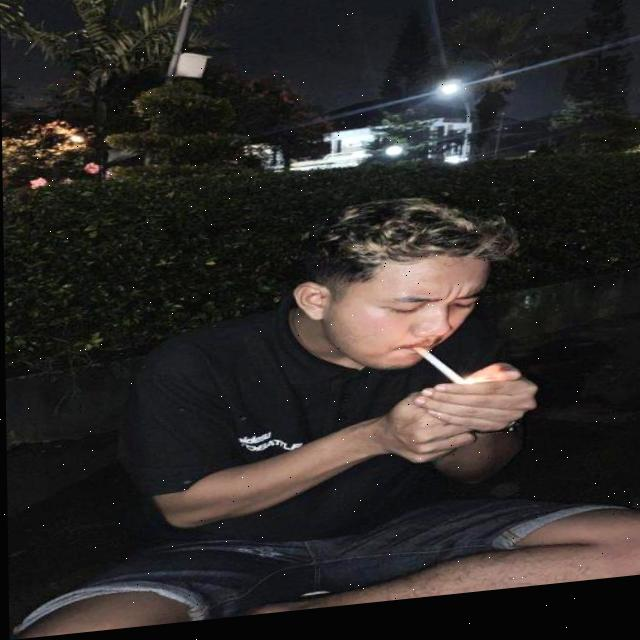cigarette: (412, 351, 462, 396)
